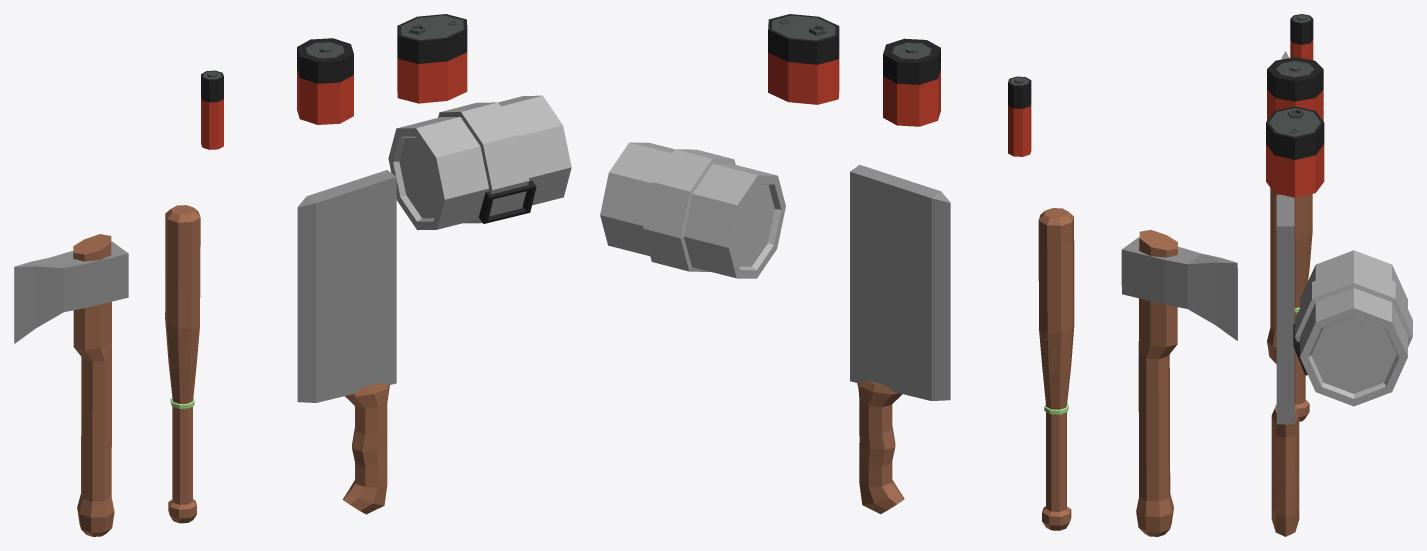
Rendered from Low Poly Survival Asset.fbx.
3 views of the same model, side by side, from view 1: azimuth 30°, elevation 25°; view 2: azimuth 150°, elevation 25°; view 3: azimuth 270°, elevation 25° (orthographic). The views are drawn at different scales.
Visible parts, largest first — view 1: Chopper, Bandage, Axe, Bat, Battery 3, Battery 2, Battery 1; view 2: Chopper, Bandage, Axe, Bat, Battery 3, Battery 2, Battery 1; view 3: Bandage, Chopper, Battery 3, Battery 2, Bat, Axe, Battery 1.
Part boxes in pixels (<box>): Chopper: <box>297,170,396,514</box>; Bandage: <box>388,95,571,230</box>; Axe: <box>14,234,128,536</box>; Bat: <box>165,205,200,523</box>; Battery 3: <box>397,14,467,103</box>; Battery 2: <box>297,38,353,124</box>; Battery 1: <box>201,70,223,149</box>; Chopper: <box>850,164,950,514</box>; Bandage: <box>600,142,785,278</box>; Axe: <box>1121,229,1237,536</box>; Bat: <box>1038,208,1074,530</box>; Battery 3: <box>768,14,839,104</box>; Battery 2: <box>883,38,940,126</box>; Battery 1: <box>1008,76,1031,156</box>; Bandage: <box>1293,250,1412,406</box>; Chopper: <box>1271,194,1299,536</box>; Battery 3: <box>1266,106,1324,197</box>; Battery 2: <box>1267,57,1323,120</box>; Bat: <box>1278,194,1312,421</box>; Axe: <box>1267,51,1289,363</box>; Battery 1: <box>1290,14,1313,60</box>.
Size of the model in its own units: 221 by 176 by 52.01.
